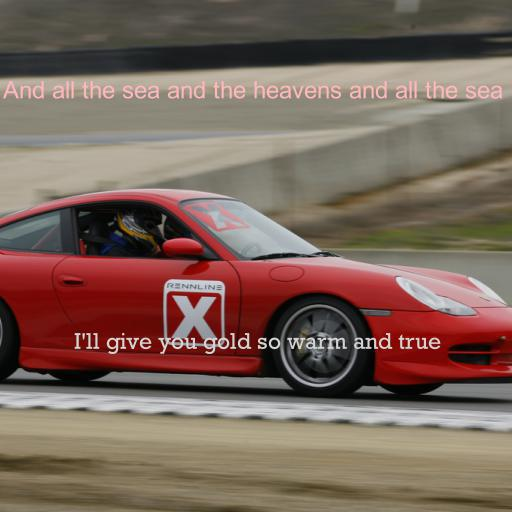Arial: (3, 81, 503, 99)
Rockwell: (73, 332, 441, 354)
